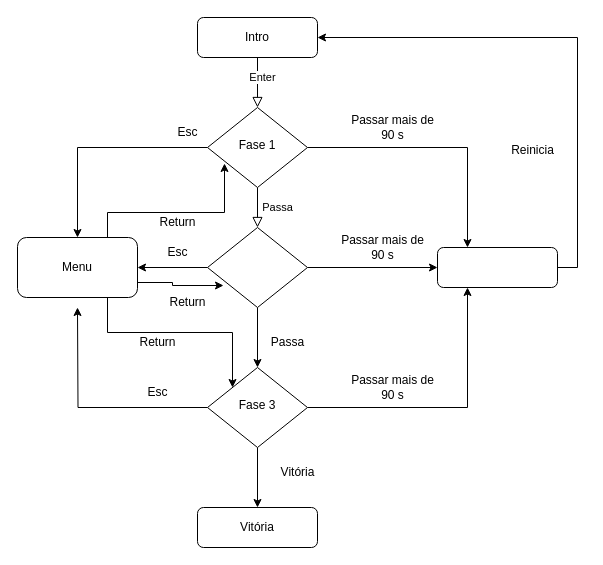
This 603x565 diagram has some shape labels left out. The box of each missing label's shape, as (x1, y1, x2, y2) in pixels:
Derrota: (436, 246, 558, 288)
Fase 2: (206, 226, 308, 308)
